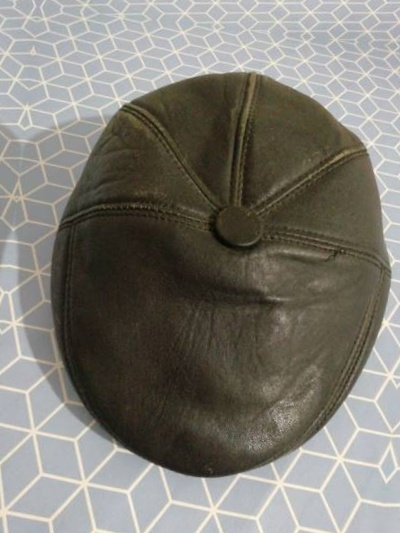Hat: (0, 32, 400, 505), (0, 0, 25, 463), (50, 0, 400, 23)
